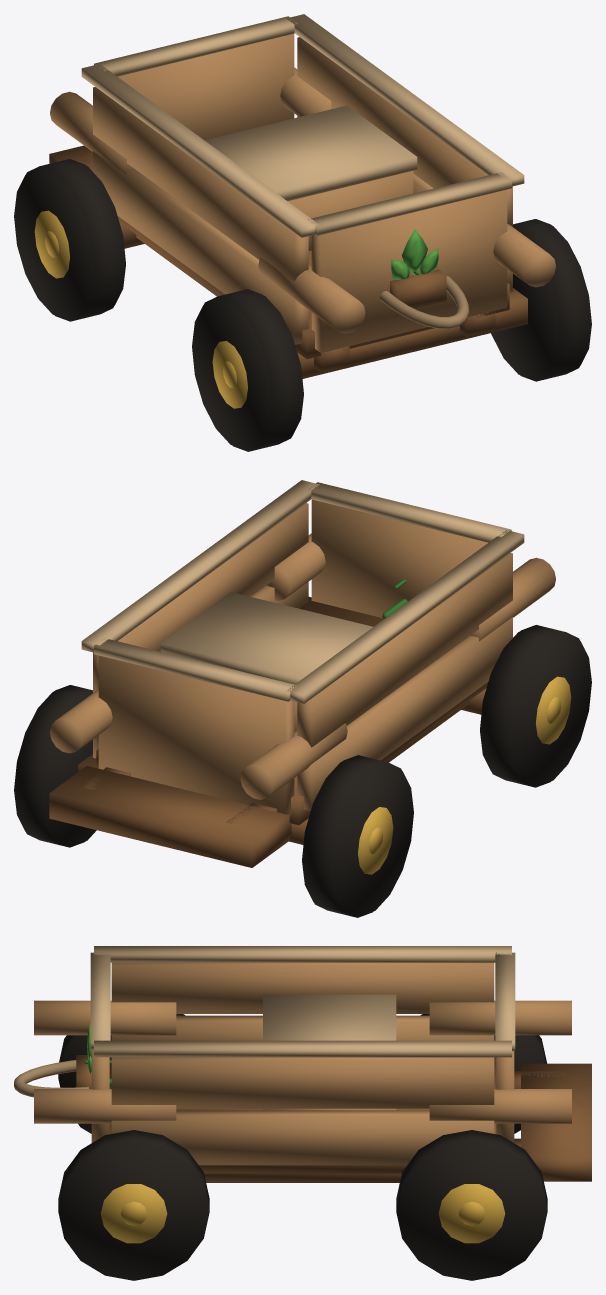
Rendered from veh_cart.glb.
3 views of the same model, one above another, from view 1: azimuth 30°, elevation 25°; view 2: azimuth 150°, elevation 25°; view 3: azimuth 270°, elevation 25° (orthographic). The views are drawn at different scales.
Visible parts, largest first — view 1: veh_cart; view 2: veh_cart; view 3: veh_cart.
Part boxes in pixels (x1,y1,x2,y2): veh_cart: (14, 14, 591, 451); veh_cart: (14, 480, 591, 917); veh_cart: (14, 946, 591, 1280).
Bounding box in the file's own units: 1.6 × 1.04 × 2.6.
